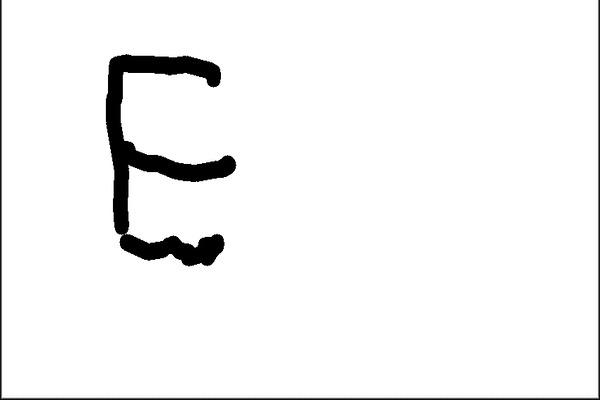E: (98, 45, 243, 269)
